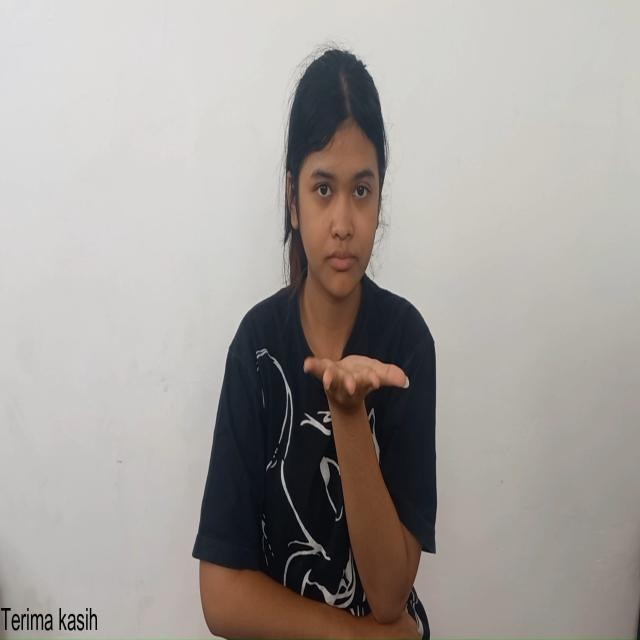Terima kasih -BISINDO-: (302, 355, 434, 612)
